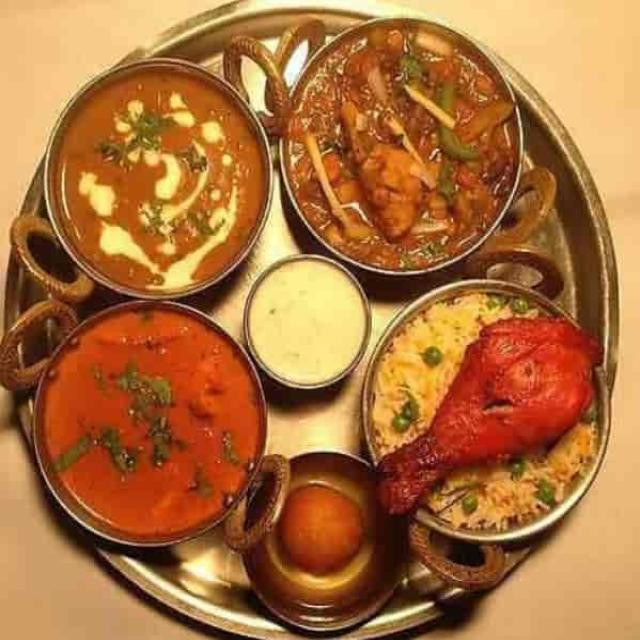non veg meals: (3, 9, 622, 640)
